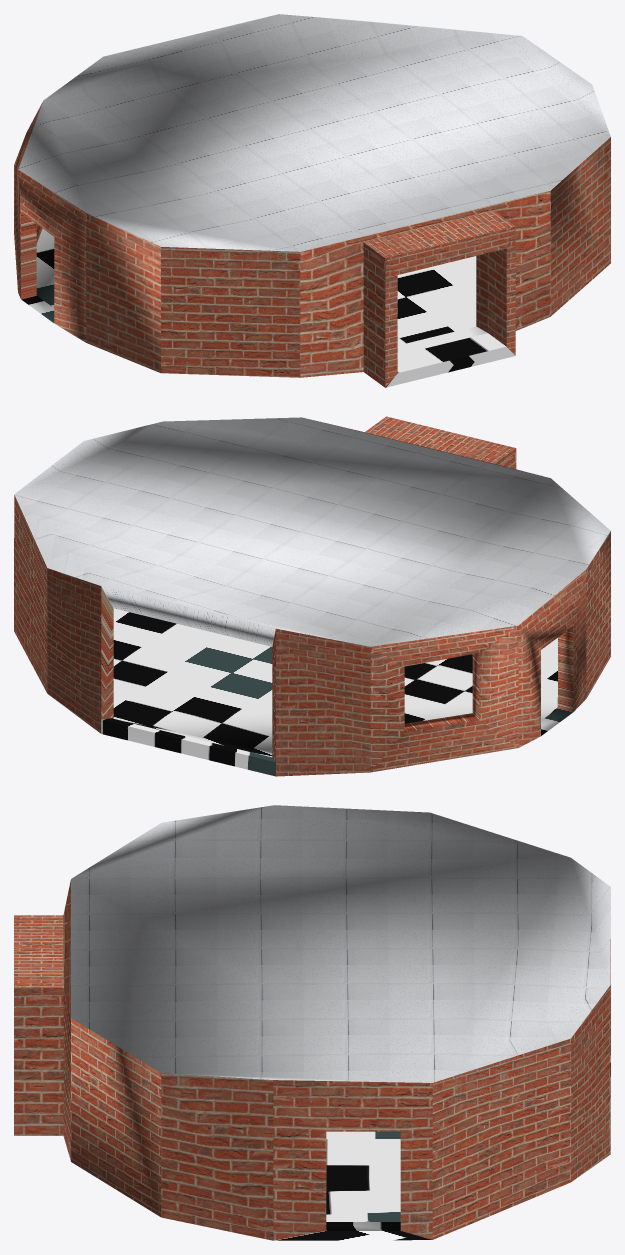
The model's file is Newatrium.glb.
3 renders of one model, top to bottom at view 1: azimuth 30°, elevation 25°; view 2: azimuth 150°, elevation 25°; view 3: azimuth 270°, elevation 25°, orthographic. The views are drawn at different scales.
Parts seen in each view (by area): view 1: Cube.004; view 2: Cube.004; view 3: Cube.004.
Boxes of the visible parts, x1=… form: Cube.004: x1=14, y1=14, x2=610, y2=387; Cube.004: x1=14, y1=416, x2=610, y2=776; Cube.004: x1=14, y1=805, x2=610, y2=1240.
Size of the model in its own units: 18.43 by 5.04 by 16.08.
Materials: 4 (4 with a texture image).
